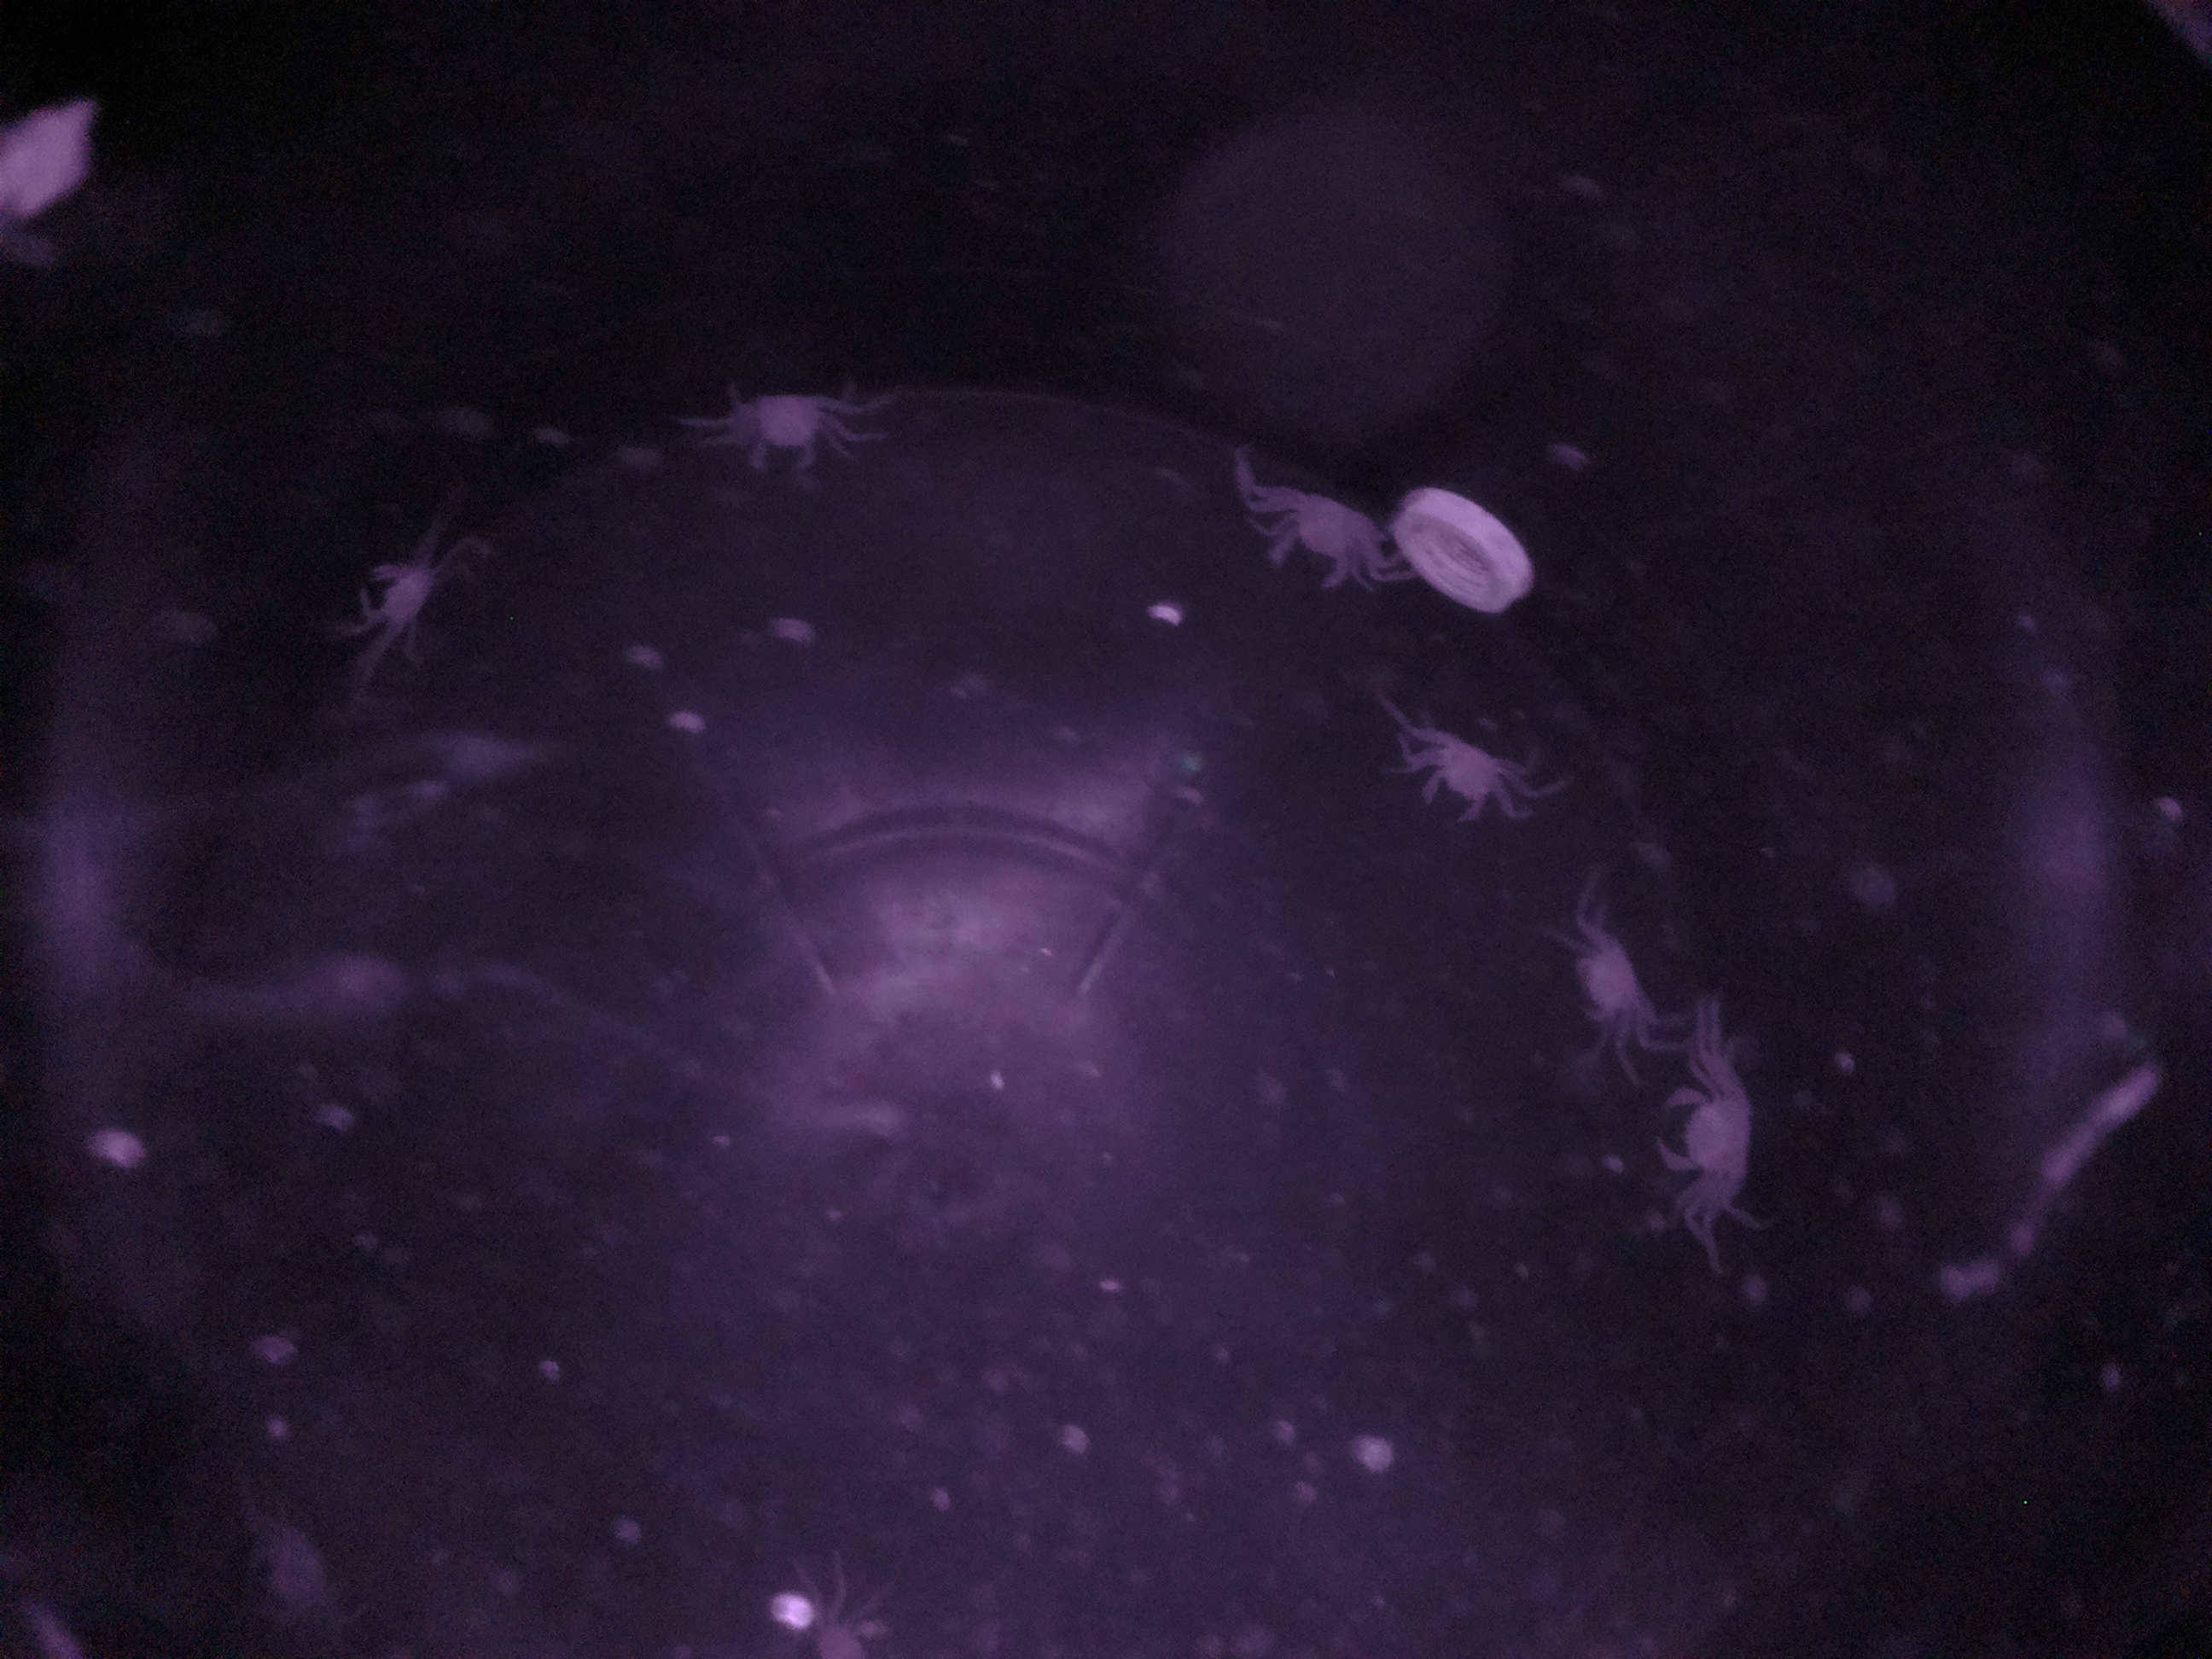Crab: (1254, 465, 1400, 624), (1648, 1070, 1787, 1215), (718, 362, 862, 491), (329, 538, 469, 666), (1409, 714, 1521, 842)
